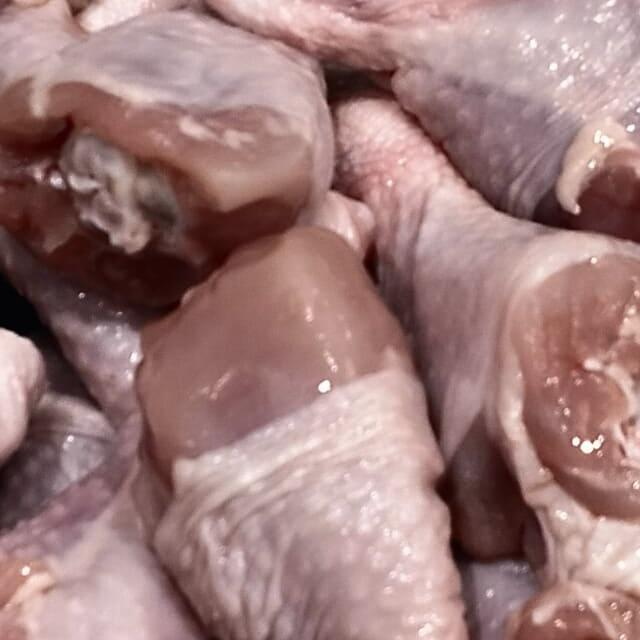chicken: (124, 197, 640, 640), (146, 0, 640, 235)
